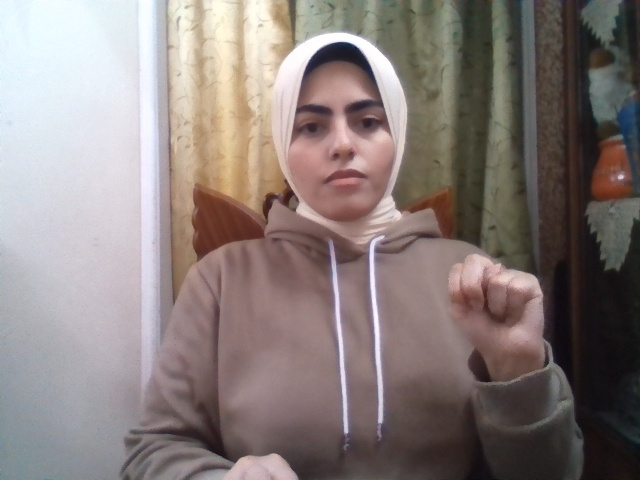N: (447, 254, 545, 362)
